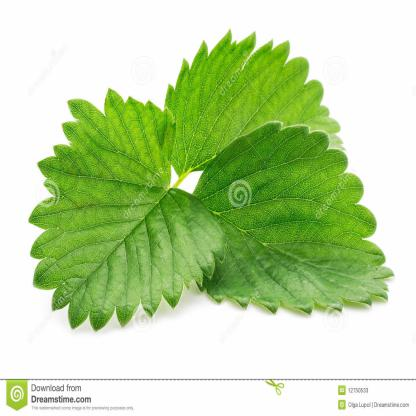Strawberry leaf: (30, 88, 231, 334), (182, 118, 395, 318), (160, 28, 348, 184)
